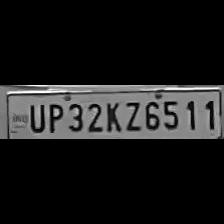1: (198, 97, 218, 130), (182, 97, 200, 131)
2: (84, 100, 104, 132)
3: (64, 100, 84, 132)
5: (160, 97, 180, 131)
6: (142, 97, 160, 131)
K: (102, 99, 120, 133)
P: (45, 100, 63, 134)
U: (25, 102, 45, 132)
Z: (122, 98, 140, 132)
